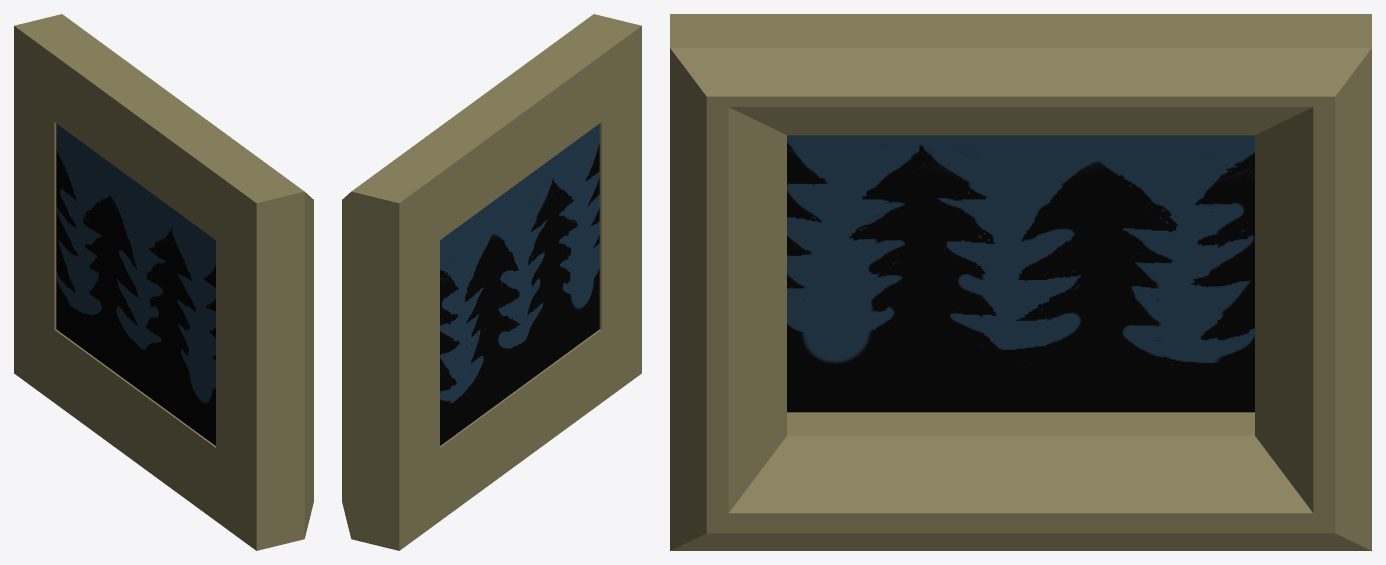
The model's file is window.glb.
3 renders of one model, left to right at view 1: azimuth 30°, elevation 25°; view 2: azimuth 150°, elevation 25°; view 3: azimuth 270°, elevation 25°, orthographic. The views are drawn at different scales.
Parts seen in each view (by area): view 1: Cube; view 2: Cube; view 3: Cube.
Boxes of the visible parts, x1,y1,x2,y2 form: Cube: (14, 14, 313, 550); Cube: (342, 14, 641, 550); Cube: (670, 14, 1371, 550).
Bounding box in the file's own units: 2 × 9.49 × 12.
1 material, 1 textured.
